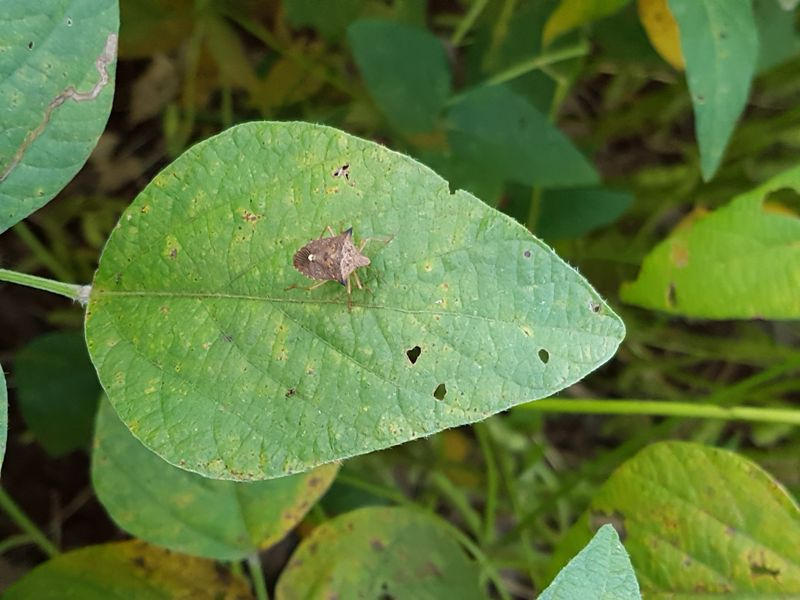Euschistus_heros_adulto: (276, 217, 396, 310)
